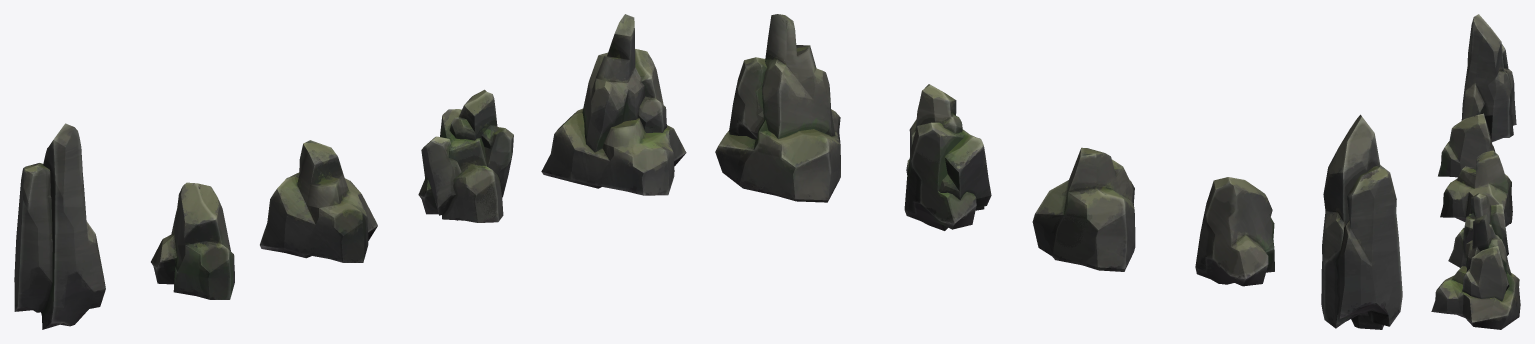
File: rocks.glb
3 views of the same model, side by side, from view 1: azimuth 30°, elevation 25°; view 2: azimuth 150°, elevation 25°; view 3: azimuth 270°, elevation 25° (orthographic). The views are drawn at different scales.
Visible parts, largest first — view 1: Rock_5, Rock_4, Rock_2, Rock_3, Rock_1; view 2: Rock_5, Rock_4, Rock_2, Rock_3, Rock_1; view 3: Rock_5, Rock_4, Rock_2, Rock_1, Rock_3.
Part boxes in pixels (x1,y1,x2,y2): Rock_5: [541, 14, 686, 195]; Rock_4: [14, 123, 105, 329]; Rock_2: [260, 140, 377, 262]; Rock_3: [418, 89, 513, 222]; Rock_1: [151, 182, 234, 299]; Rock_5: [715, 14, 840, 202]; Rock_4: [1321, 114, 1402, 329]; Rock_2: [1032, 147, 1135, 271]; Rock_3: [904, 84, 991, 230]; Rock_1: [1195, 177, 1274, 286]; Rock_5: [1431, 214, 1520, 329]; Rock_4: [1461, 14, 1516, 142]; Rock_2: [1440, 150, 1512, 226]; Rock_1: [1438, 113, 1495, 177]; Rock_3: [1448, 193, 1508, 267].
Bounding box in the file's own units: 7.28 × 2.15 × 1.32.
Materials: 1 (1 with a texture image).
